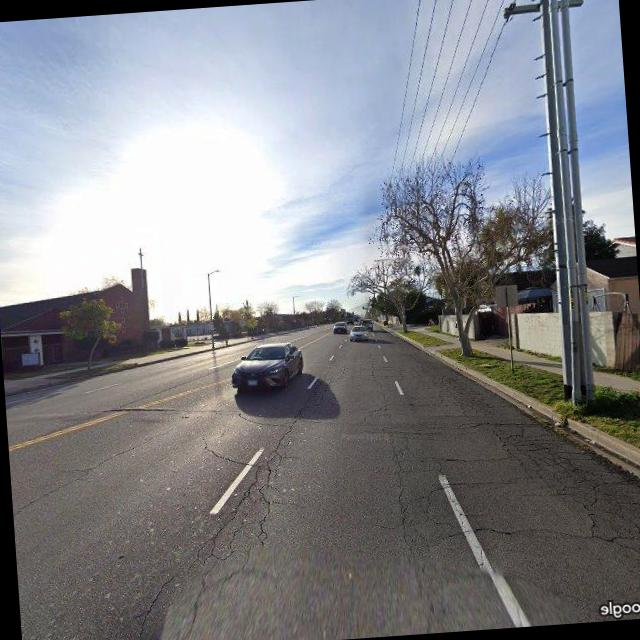crack: (378, 376, 640, 602), (180, 410, 323, 586), (428, 360, 502, 418), (302, 349, 352, 408)
pothole: (10, 424, 178, 518), (134, 572, 184, 634)
